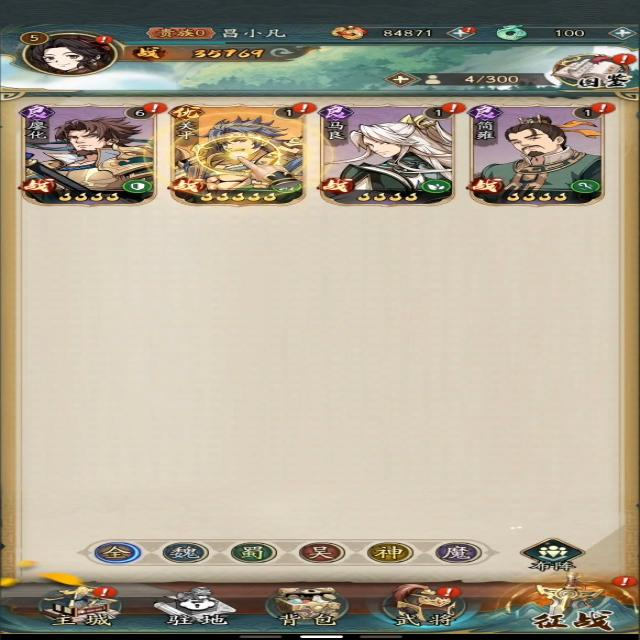hint-guide: (147, 112, 320, 191)
hint-reddot: (429, 583, 465, 603), (287, 100, 320, 116), (142, 100, 172, 117), (588, 99, 616, 116), (440, 101, 467, 116), (88, 586, 121, 598), (608, 575, 640, 587), (614, 52, 638, 66), (92, 35, 116, 46), (458, 26, 479, 34)
navigation-bag: (262, 584, 360, 630)
navigation-fight: (502, 568, 639, 632)
navigation-hero: (379, 581, 471, 629)
navigation-main: (35, 581, 132, 629)
navigation-myHeroes: (16, 100, 159, 212), (167, 100, 311, 208), (473, 98, 609, 210), (323, 99, 459, 209)
navigation-role: (10, 26, 136, 81)
navigation-station-off: (145, 584, 242, 631)
operation-camp: (425, 537, 489, 565), (361, 538, 416, 565), (87, 540, 144, 565), (221, 540, 279, 564), (293, 540, 348, 564), (158, 539, 210, 564)
operation-deployment: (514, 535, 580, 573)
operation-gallery: (540, 51, 639, 89)
